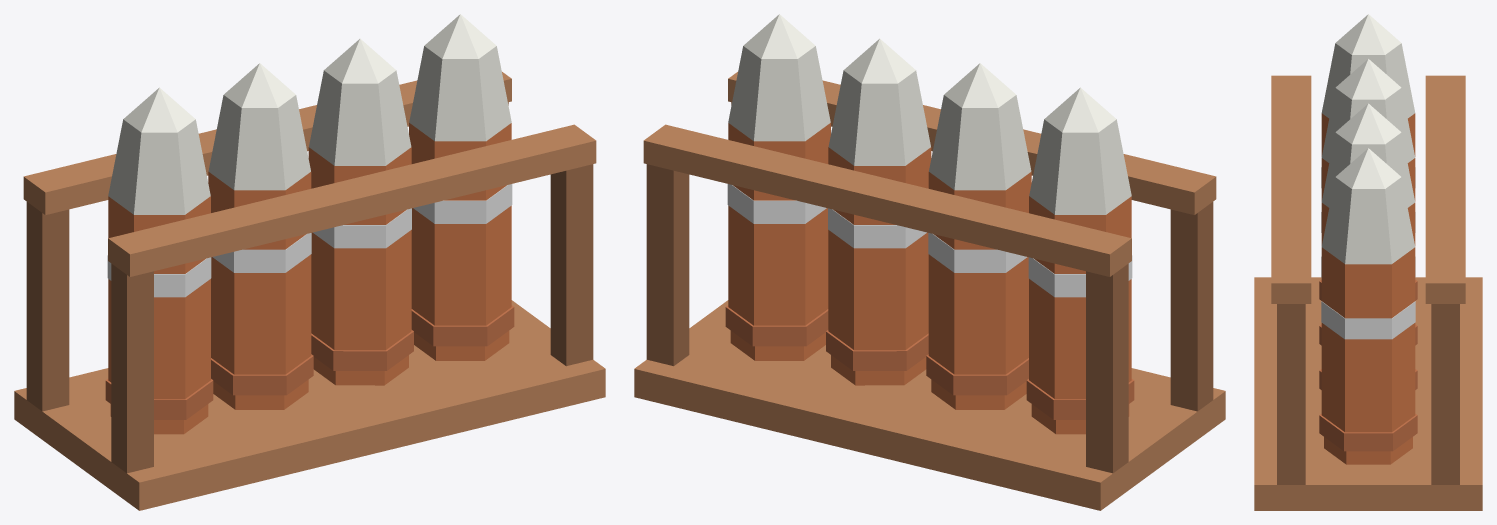
File: ce_ammo_artillery_inc_c.obj
The picture shows the model from 3 angles, left to right: view 1: azimuth 30°, elevation 25°; view 2: azimuth 150°, elevation 25°; view 3: azimuth 270°, elevation 25°; orthographic projection. The views are drawn at different scales.
Visible parts, largest first — view 1: ce_ammo_artillery_inc_c_0, ce_ammo_artillery_inc_c_1, ce_ammo_artillery_inc_c_23, ce_ammo_artillery_inc_c_16, ce_ammo_artillery_inc_c_30, ce_ammo_artillery_inc_c_4, ce_ammo_artillery_inc_c_5, ce_ammo_artillery_inc_c_3, ce_ammo_artillery_inc_c_19, ce_ammo_artillery_inc_c_33, ce_ammo_artillery_inc_c_12, ce_ammo_artillery_inc_c_26 (+22 smaller); view 2: ce_ammo_artillery_inc_c_0, ce_ammo_artillery_inc_c_2, ce_ammo_artillery_inc_c_23, ce_ammo_artillery_inc_c_16, ce_ammo_artillery_inc_c_30, ce_ammo_artillery_inc_c_3, ce_ammo_artillery_inc_c_6, ce_ammo_artillery_inc_c_4, ce_ammo_artillery_inc_c_19, ce_ammo_artillery_inc_c_33, ce_ammo_artillery_inc_c_12, ce_ammo_artillery_inc_c_26 (+22 smaller); view 3: ce_ammo_artillery_inc_c_0, ce_ammo_artillery_inc_c_1, ce_ammo_artillery_inc_c_2, ce_ammo_artillery_inc_c_30, ce_ammo_artillery_inc_c_33, ce_ammo_artillery_inc_c_5, ce_ammo_artillery_inc_c_6, ce_ammo_artillery_inc_c_32, ce_ammo_artillery_inc_c_19, ce_ammo_artillery_inc_c_26, ce_ammo_artillery_inc_c_12, ce_ammo_artillery_inc_c_31 (+9 smaller).
Part boxes in pixels (bbox=[...]): ce_ammo_artillery_inc_c_0: bbox=[14, 300, 605, 510]; ce_ammo_artillery_inc_c_1: bbox=[108, 124, 596, 276]; ce_ammo_artillery_inc_c_23: bbox=[311, 230, 411, 350]; ce_ammo_artillery_inc_c_16: bbox=[211, 254, 311, 374]; ce_ammo_artillery_inc_c_30: bbox=[411, 205, 511, 325]; ce_ammo_artillery_inc_c_4: bbox=[26, 202, 69, 411]; ce_ammo_artillery_inc_c_5: bbox=[550, 164, 593, 366]; ce_ammo_artillery_inc_c_3: bbox=[111, 263, 153, 473]; ce_ammo_artillery_inc_c_19: bbox=[208, 95, 310, 190]; ce_ammo_artillery_inc_c_33: bbox=[409, 46, 511, 141]; ce_ammo_artillery_inc_c_12: bbox=[108, 119, 210, 214]; ce_ammo_artillery_inc_c_26: bbox=[309, 70, 411, 165]; ce_ammo_artillery_inc_c_0: bbox=[634, 300, 1225, 510]; ce_ammo_artillery_inc_c_2: bbox=[643, 124, 1131, 276]; ce_ammo_artillery_inc_c_23: bbox=[828, 230, 928, 350]; ce_ammo_artillery_inc_c_16: bbox=[928, 254, 1028, 374]; ce_ammo_artillery_inc_c_30: bbox=[728, 205, 828, 325]; ce_ammo_artillery_inc_c_3: bbox=[1170, 202, 1213, 411]; ce_ammo_artillery_inc_c_6: bbox=[646, 164, 689, 366]; ce_ammo_artillery_inc_c_4: bbox=[1086, 263, 1128, 473]; ce_ammo_artillery_inc_c_19: bbox=[929, 95, 1031, 190]; ce_ammo_artillery_inc_c_33: bbox=[728, 46, 830, 141]; ce_ammo_artillery_inc_c_12: bbox=[1029, 119, 1131, 214]; ce_ammo_artillery_inc_c_26: bbox=[828, 70, 930, 165]; ce_ammo_artillery_inc_c_0: bbox=[1254, 277, 1482, 510]; ce_ammo_artillery_inc_c_1: bbox=[1271, 75, 1311, 303]; ce_ammo_artillery_inc_c_2: bbox=[1425, 75, 1465, 303]; ce_ammo_artillery_inc_c_30: bbox=[1321, 323, 1415, 432]; ce_ammo_artillery_inc_c_33: bbox=[1321, 177, 1415, 264]; ce_ammo_artillery_inc_c_5: bbox=[1277, 304, 1305, 484]; ce_ammo_artillery_inc_c_6: bbox=[1431, 304, 1459, 484]; ce_ammo_artillery_inc_c_32: bbox=[1321, 247, 1415, 318]; ce_ammo_artillery_inc_c_19: bbox=[1321, 88, 1415, 162]; ce_ammo_artillery_inc_c_26: bbox=[1321, 132, 1415, 207]; ce_ammo_artillery_inc_c_12: bbox=[1321, 43, 1415, 118]; ce_ammo_artillery_inc_c_31: bbox=[1321, 301, 1415, 339].
Size of the model in its own units: 0.86 by 0.63 by 0.4.
